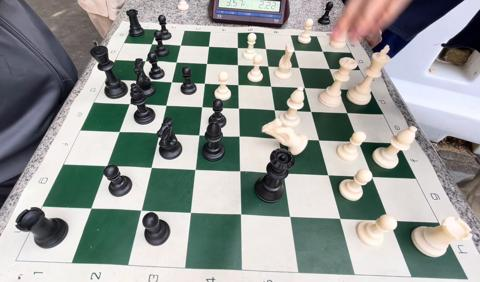xcorner: (134, 205, 146, 216), (184, 207, 195, 219), (305, 107, 317, 118), (164, 77, 176, 88), (265, 82, 277, 93), (200, 58, 211, 70), (231, 60, 243, 71), (85, 203, 96, 214), (234, 210, 245, 221), (284, 212, 295, 223), (334, 214, 345, 225), (383, 216, 394, 227), (100, 161, 111, 172), (144, 163, 155, 174), (189, 165, 200, 176), (233, 167, 244, 178), (278, 169, 289, 180), (322, 171, 333, 182), (367, 173, 378, 184), (112, 127, 123, 138), (152, 129, 163, 140), (193, 131, 204, 142), (233, 132, 244, 143), (273, 134, 284, 145), (313, 136, 324, 147), (353, 138, 364, 149), (122, 99, 133, 110), (159, 101, 170, 112), (196, 102, 207, 113), (232, 104, 243, 115), (269, 106, 280, 117), (342, 109, 353, 120), (131, 76, 142, 87), (198, 79, 209, 90), (232, 80, 243, 91), (299, 83, 310, 94), (333, 85, 344, 96), (138, 56, 149, 67), (169, 57, 180, 68), (263, 61, 274, 72), (294, 63, 305, 74), (325, 64, 336, 75), (144, 38, 155, 49), (173, 40, 184, 51), (202, 41, 213, 52), (231, 42, 242, 53), (260, 44, 271, 55), (289, 45, 300, 56), (318, 46, 329, 57)
